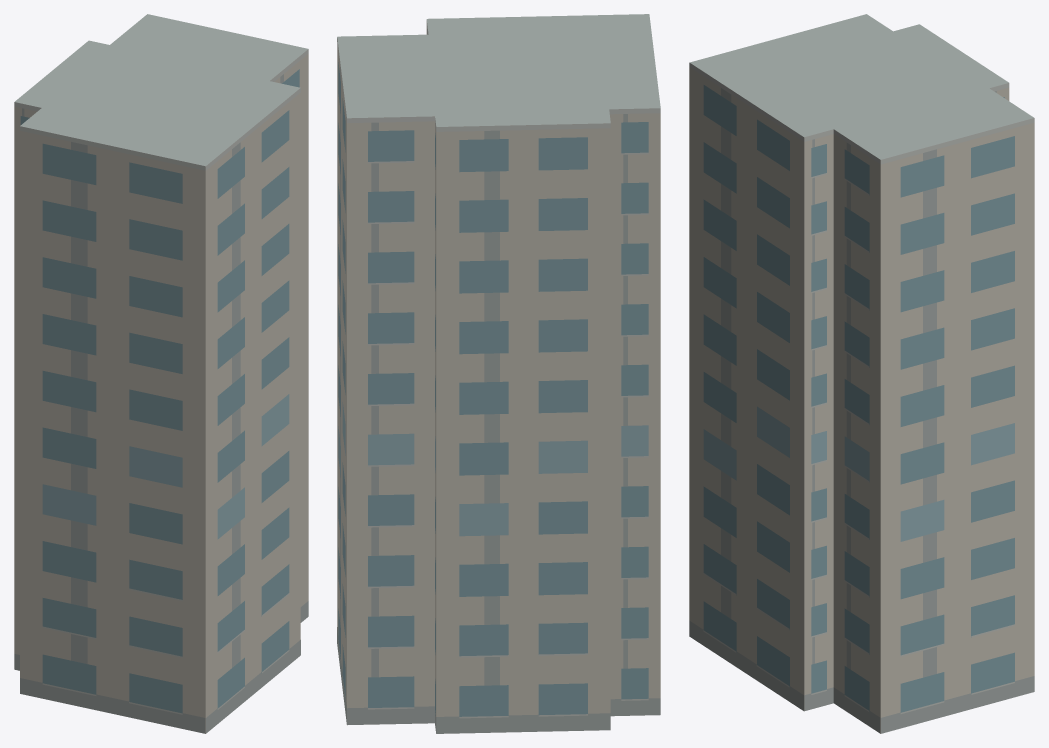
File: residential-afbb5446-a830-4d1e-98e2-0c6c396ce6dd.glb
3 renders of one model, left to right at view 1: azimuth 30°, elevation 25°; view 2: azimuth 150°, elevation 25°; view 3: azimuth 270°, elevation 25°, orthographic. The views are drawn at different scales.
Parts seen in each view (by area): view 1: residential-afbb5446-a830-4d1e-98e2-0c6c396ce6dd.tmp; view 2: residential-afbb5446-a830-4d1e-98e2-0c6c396ce6dd.tmp; view 3: residential-afbb5446-a830-4d1e-98e2-0c6c396ce6dd.tmp.
Boxes of the visible parts, bbox=[...] form: residential-afbb5446-a830-4d1e-98e2-0c6c396ce6dd.tmp: bbox=[14, 14, 308, 733]; residential-afbb5446-a830-4d1e-98e2-0c6c396ce6dd.tmp: bbox=[337, 14, 660, 733]; residential-afbb5446-a830-4d1e-98e2-0c6c396ce6dd.tmp: bbox=[689, 14, 1034, 733].
Size of the model in its own units: 16.36 by 30 by 16.35.
